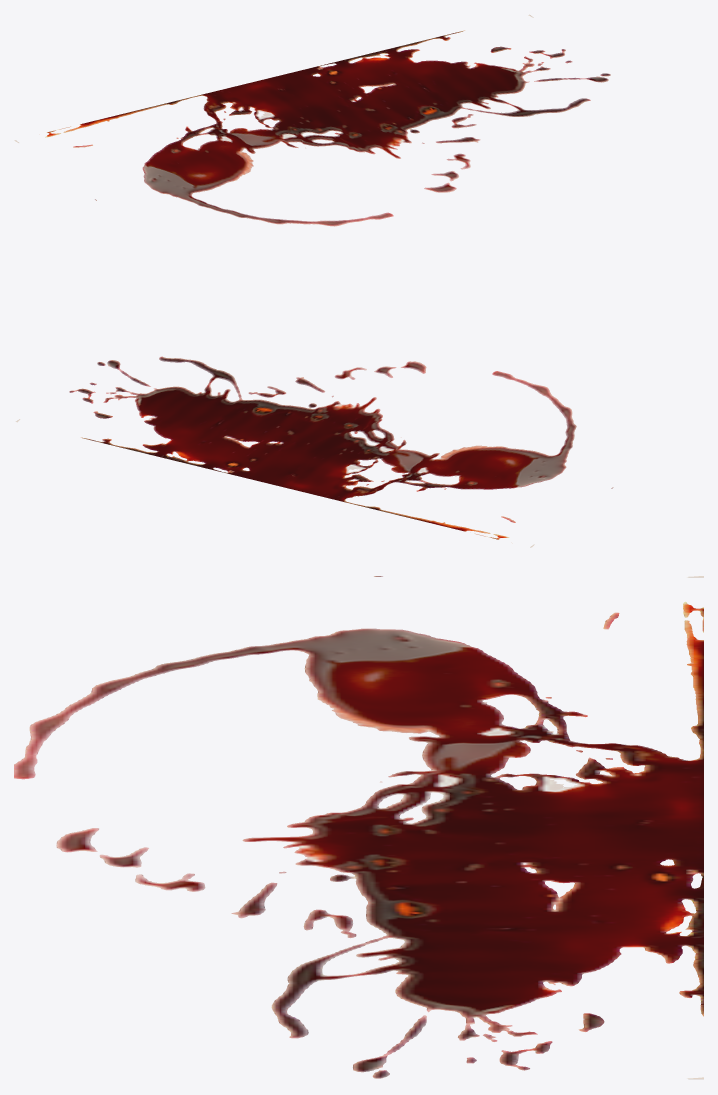
File: flaque_sang.fbx
The picture shows the model from 3 angles, top to bottom: view 1: azimuth 30°, elevation 25°; view 2: azimuth 150°, elevation 25°; view 3: azimuth 270°, elevation 25°; orthographic projection. The views are drawn at different scales.
Parts seen in each view (by area): view 1: pasted__flaque_sang; view 2: pasted__flaque_sang; view 3: pasted__flaque_sang.
Part boxes in pixels (left/top/right/bottom): pasted__flaque_sang: left=14, top=14, right=610, bottom=226; pasted__flaque_sang: left=16, top=356, right=613, bottom=547; pasted__flaque_sang: left=14, top=576, right=703, bottom=1079.
Size of the model in its own units: 68.89 by 1.02e-14 by 39.8.
1 material, 1 textured.
